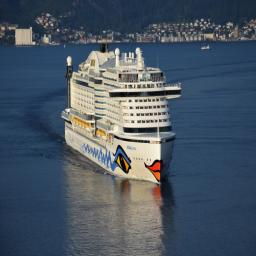cruises: (63, 42, 180, 192)
